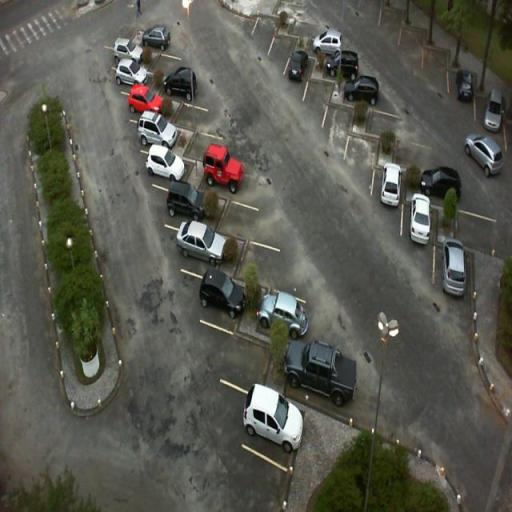Slot-empty: (195, 312, 277, 395), (240, 229, 318, 303), (222, 192, 288, 254), (444, 202, 512, 253), (415, 32, 458, 100), (345, 127, 381, 205), (396, 7, 433, 72), (364, 100, 412, 150), (322, 92, 351, 162), (373, 0, 408, 57), (252, 0, 282, 56), (304, 72, 334, 121), (268, 25, 295, 78)
Slot-occupied: (215, 374, 311, 470), (273, 332, 370, 416), (193, 143, 271, 213), (179, 260, 250, 332), (430, 222, 484, 316), (246, 278, 318, 346), (398, 176, 442, 269), (169, 215, 237, 273), (373, 139, 411, 238), (149, 185, 226, 232), (131, 142, 199, 188), (128, 109, 188, 151), (158, 67, 211, 112), (121, 80, 171, 118), (104, 32, 153, 65), (108, 60, 157, 90)
